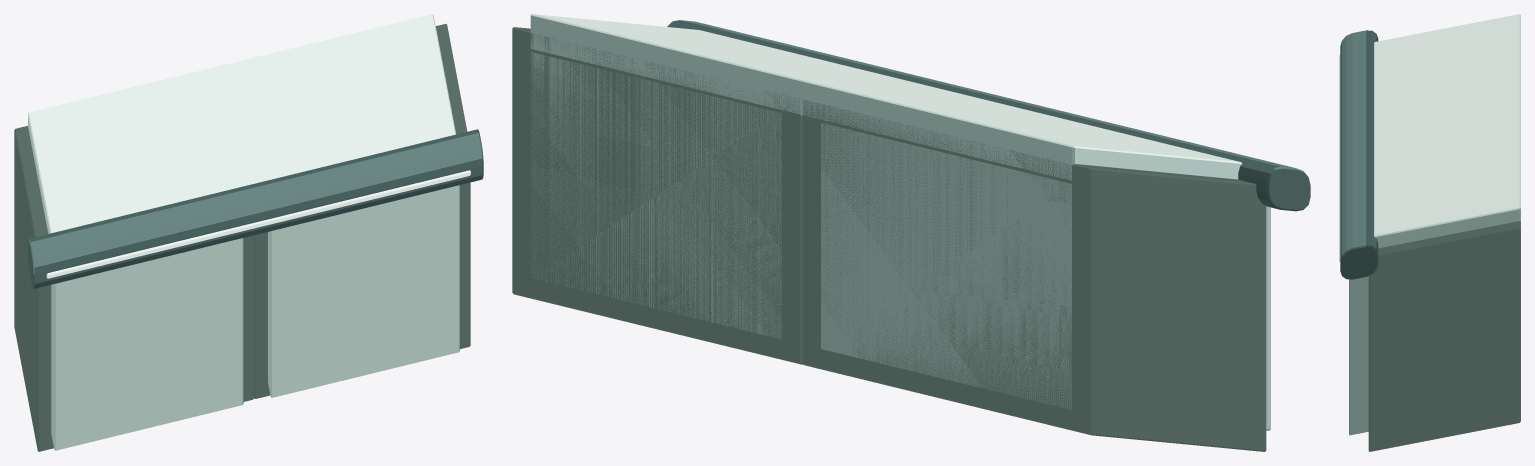
File: Terrain_TopRun2LR.gltf
3 views of the same model, side by side, from view 1: azimuth 30°, elevation 25°; view 2: azimuth 150°, elevation 25°; view 3: azimuth 270°, elevation 25° (orthographic). The views are drawn at different scales.
Parts seen in each view (by area): view 1: Terrain_TopRun2LR_baked; view 2: Terrain_TopRun2LR_baked; view 3: Terrain_TopRun2LR_baked.
Part boxes in pixels (x1=…): Terrain_TopRun2LR_baked: x1=14, y1=14, x2=483, y2=451; Terrain_TopRun2LR_baked: x1=512, y1=14, x2=1310, y2=451; Terrain_TopRun2LR_baked: x1=1339, y1=14, x2=1520, y2=451.
Size of the model in its own units: 2.33 by 1.18 by 0.74.
